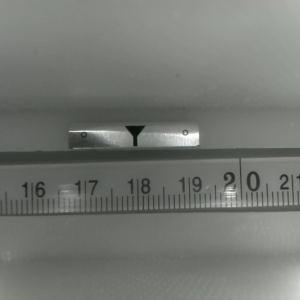0: (245, 171, 260, 192)
1: (20, 182, 28, 198), (73, 180, 80, 196), (178, 177, 185, 192), (127, 178, 133, 194), (295, 173, 300, 189)
2: (222, 172, 236, 191), (278, 174, 288, 189)
6: (35, 181, 46, 197)
7: (87, 180, 98, 195)
8: (140, 178, 150, 193)
9: (191, 177, 201, 192)
finger: (122, 125, 145, 147)
